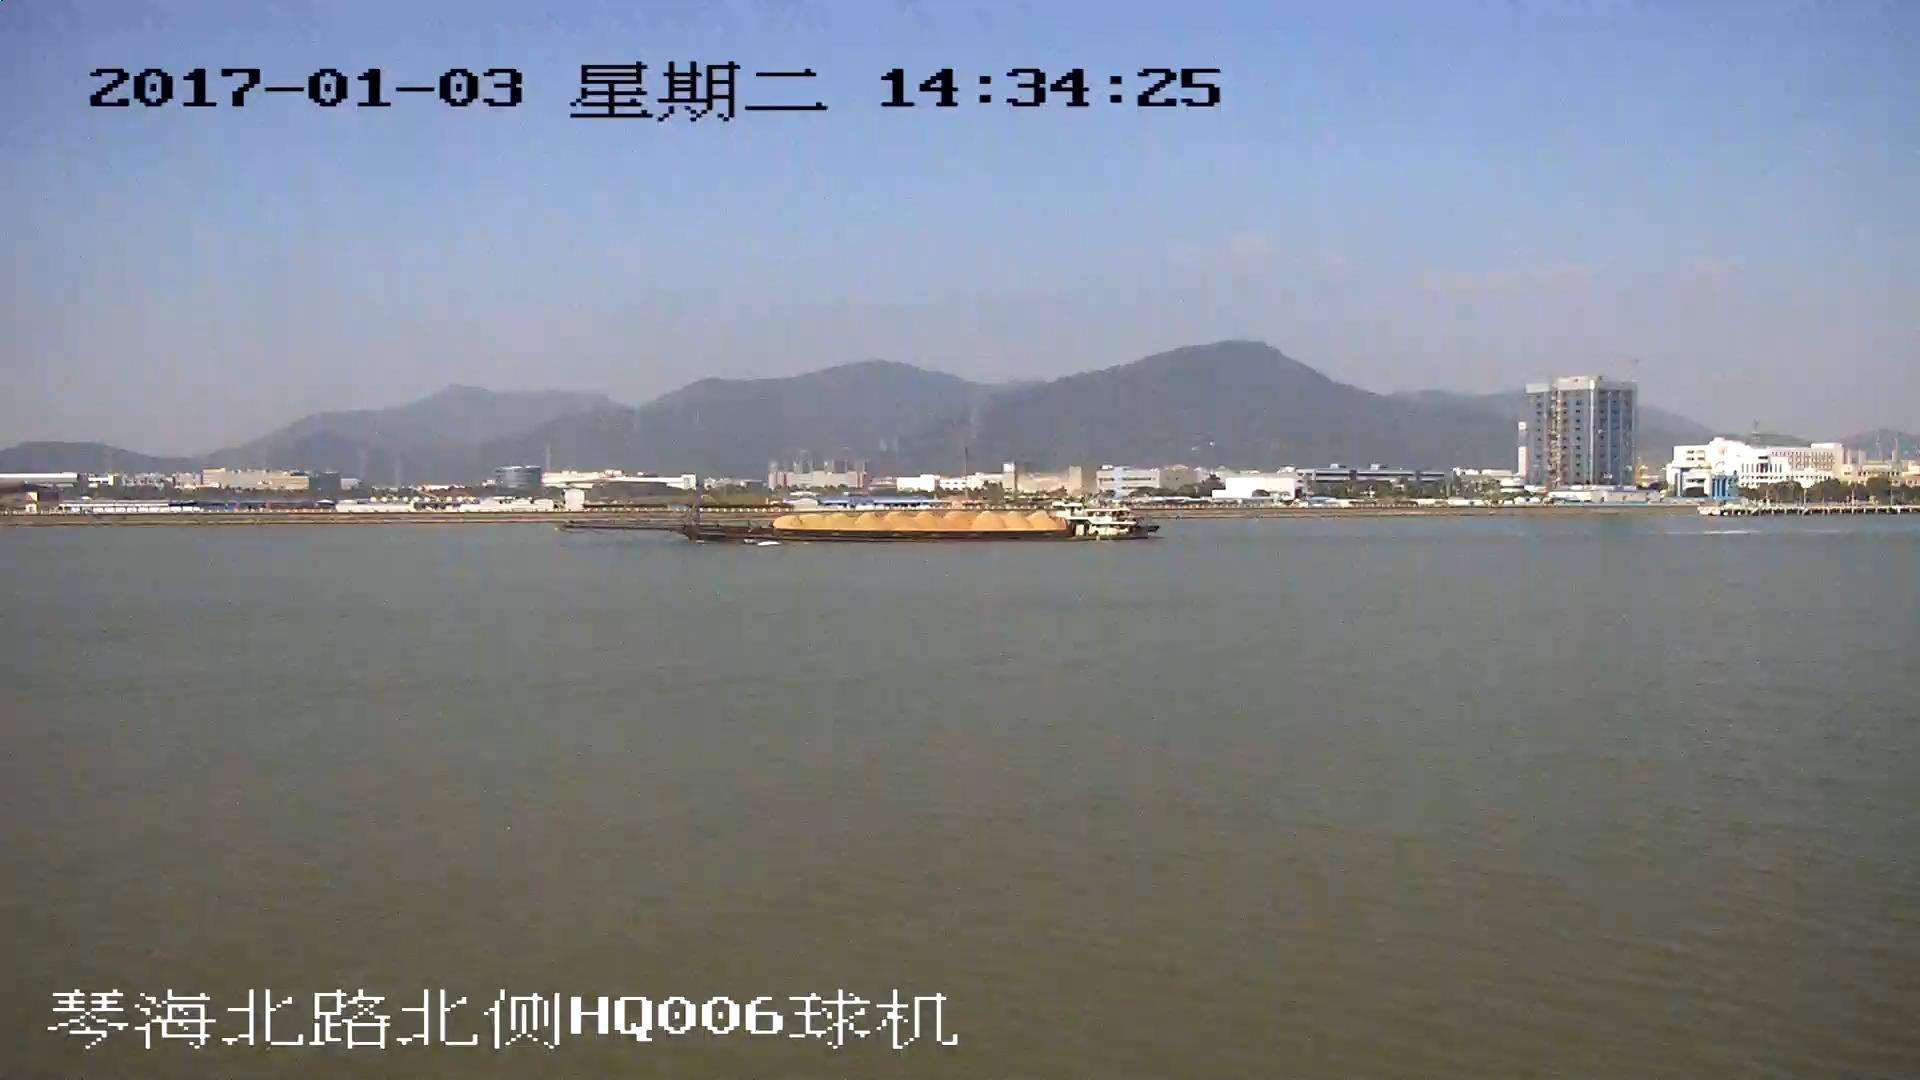ore carrier: (562, 498, 1157, 545)
